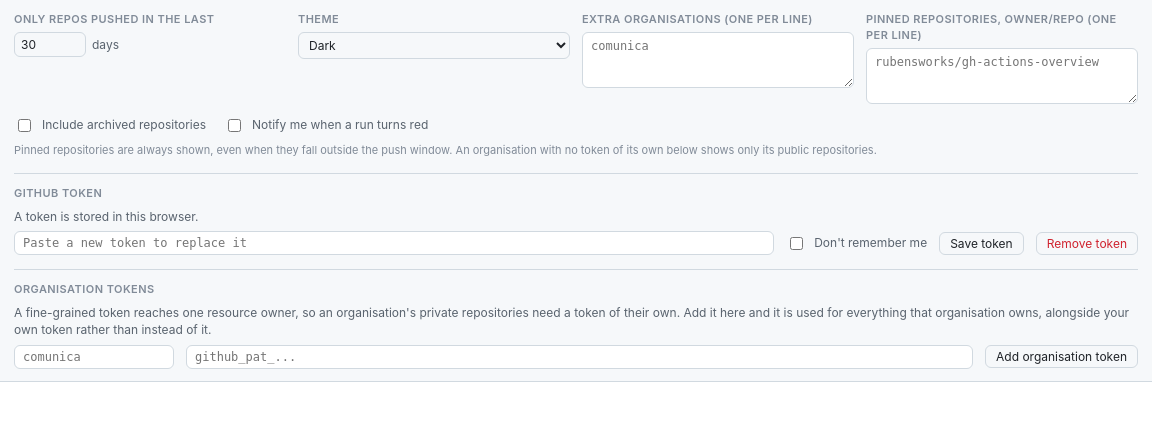
Test: SettingsPanel › the token › reports a non-Error rejection
Step 1. Type "bad" into the password field named "Replace the personal access token" → coordinates (394, 243), box [14,231,774,255]
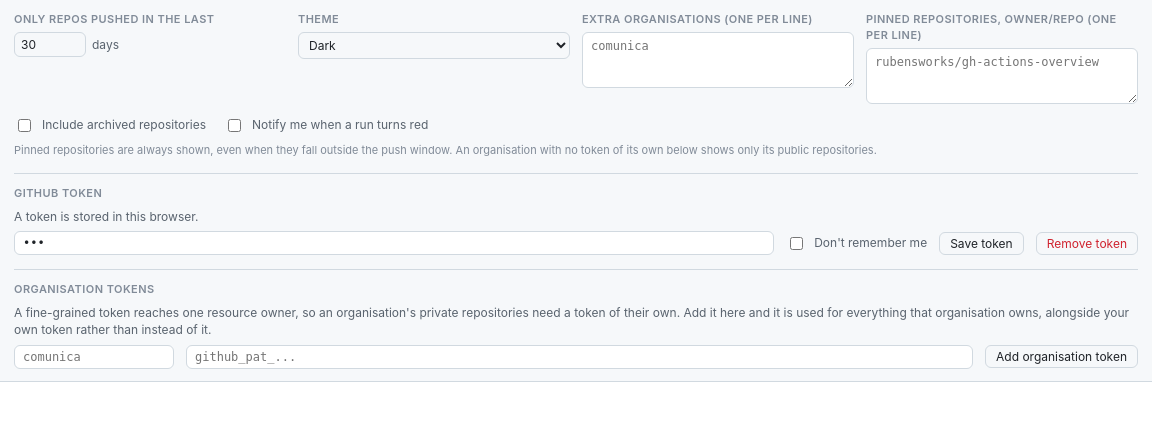
Step 2. Click the button "Save token" → coordinates (981, 243), box [939,232,1024,255]
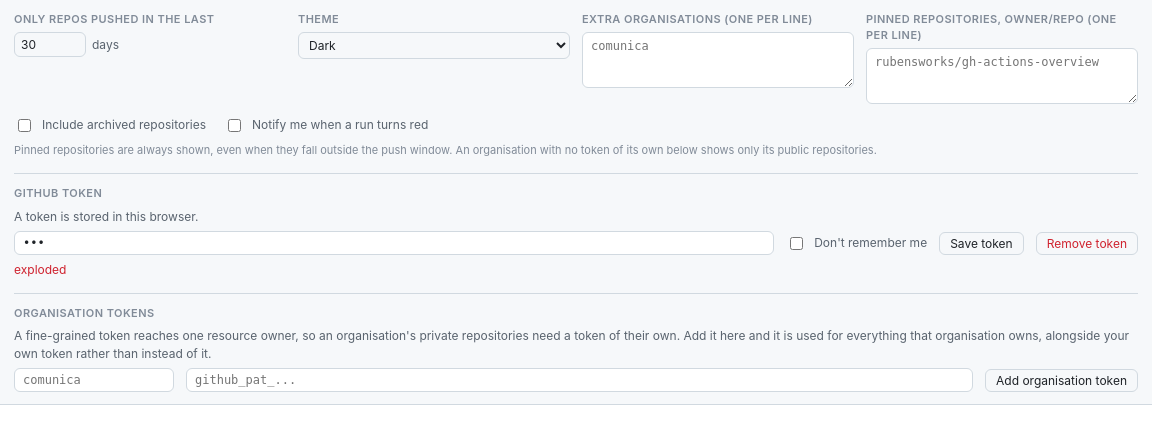
Now the message reads "exploded", box [14,262,66,277]
